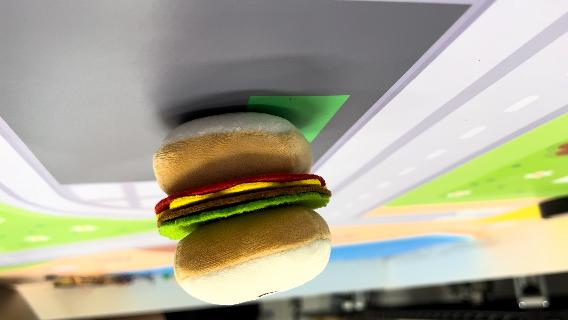sandwich: (150, 109, 336, 305)
